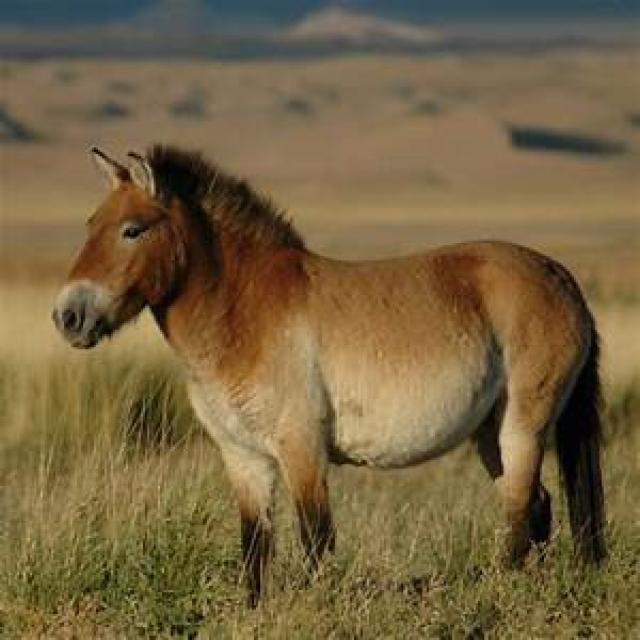horse: (49, 143, 608, 610)
